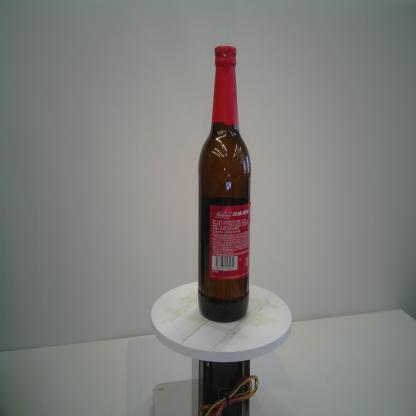Alcohol: (196, 42, 253, 324)
